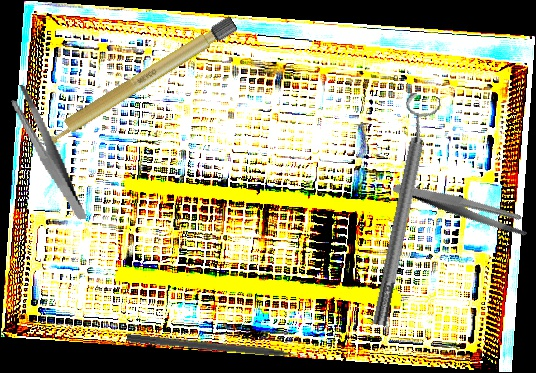Dressing Forceps: (392, 151, 533, 263), (8, 77, 88, 229)
Fixation Ring: (359, 91, 445, 329)
Pusher: (125, 333, 318, 364)
Scalpel Handle: (34, 14, 239, 152)
